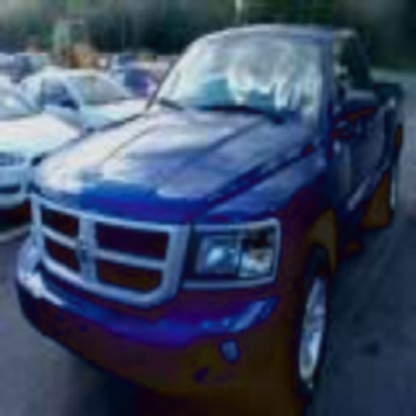Vehicle: (16, 27, 406, 413)
